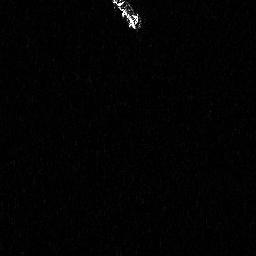ship: (108, 1, 146, 30)
